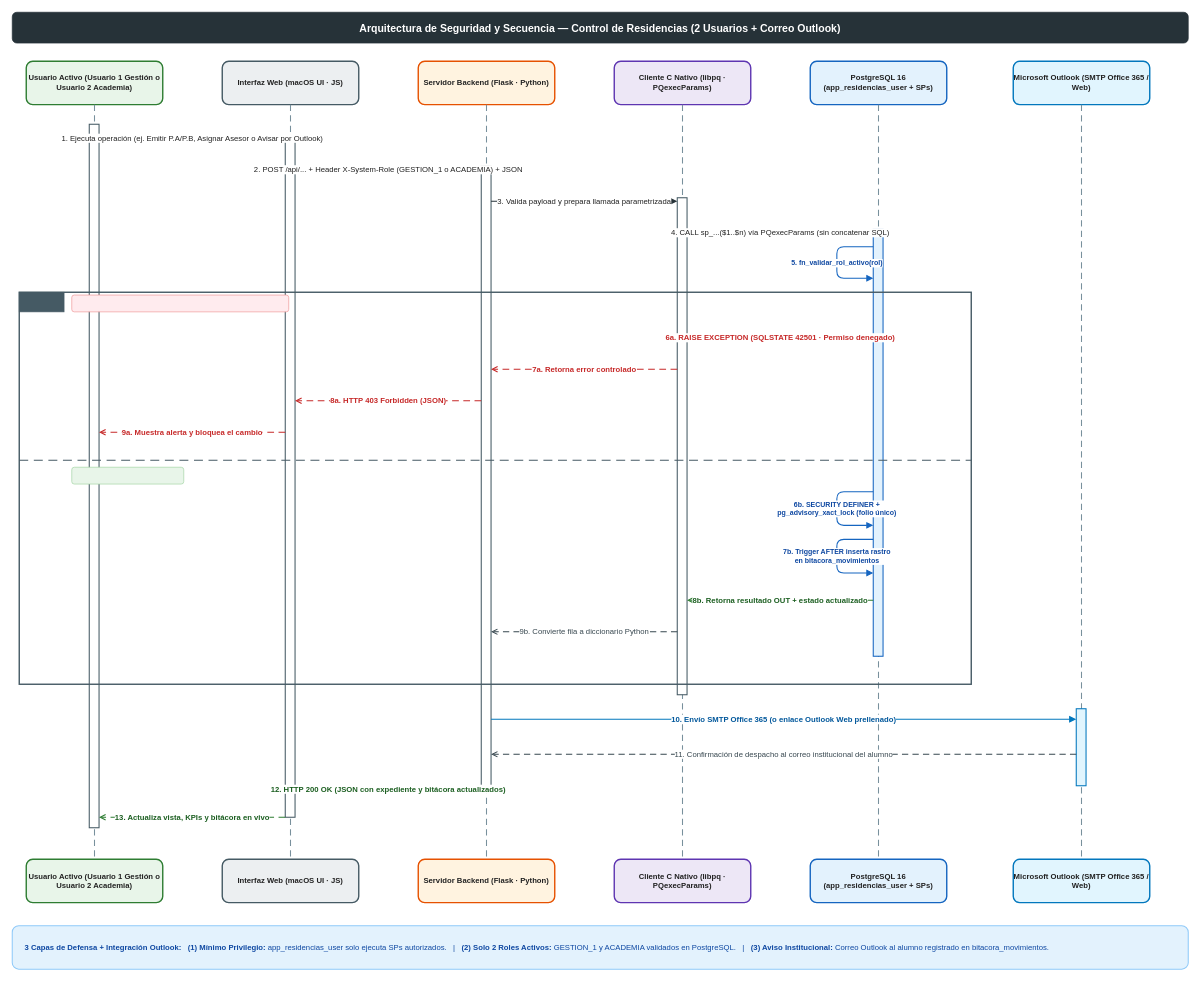
Some shapes in this 1201 by 982 pixel diagram are drawn without their labels. The shapes that lost their labels are listed below. From the top down, each one's box as (x1, y1, x2, y2) in pixels, then its label:
(19, 292, 64, 312): alt
(71, 294, 289, 312): [Rol NO autorizado para la operación]
(71, 467, 184, 484): [Rol autorizado]
